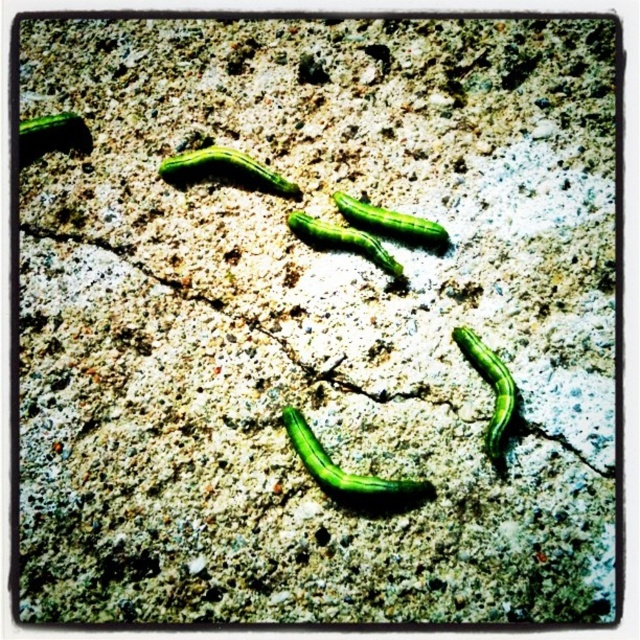Caterpillar: (281, 403, 438, 502), (289, 207, 408, 279), (451, 320, 517, 448), (158, 145, 299, 192), (332, 187, 443, 242), (15, 109, 84, 138)
